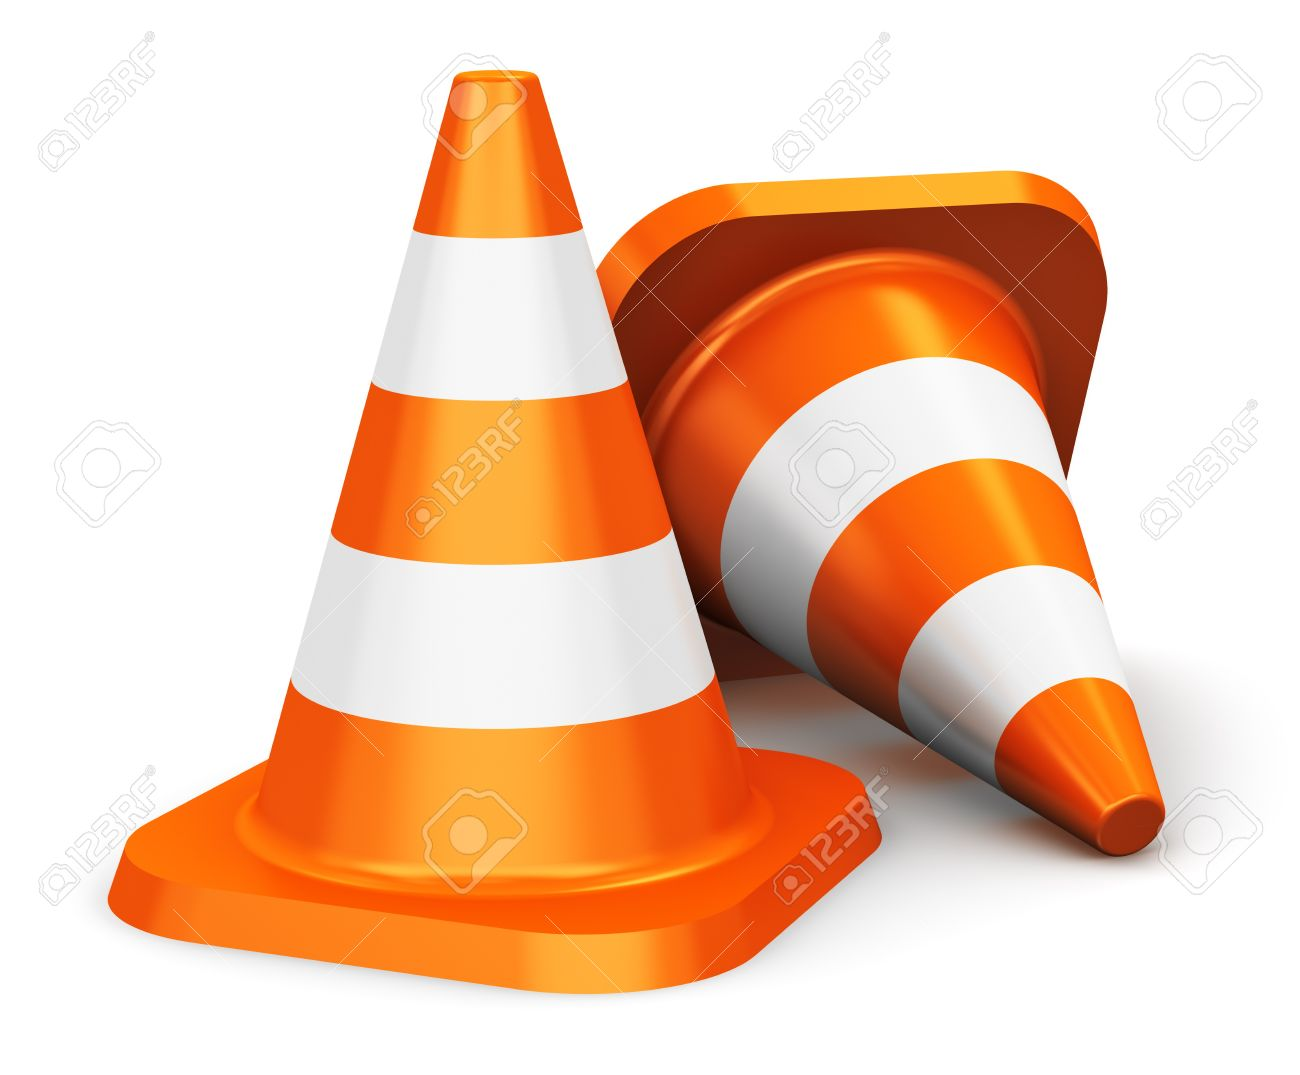orangeC: (94, 35, 886, 1001), (567, 148, 1199, 907)
